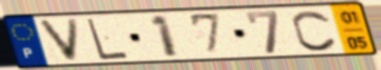1: (148, 13, 183, 59)
7: (243, 9, 283, 56), (187, 12, 224, 58)
C: (290, 8, 340, 53)
L: (84, 17, 131, 62)
V: (35, 17, 82, 63)
